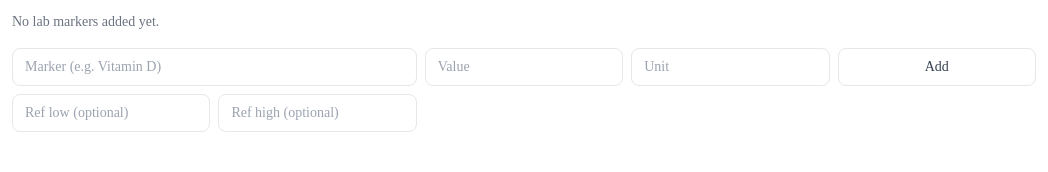
Test: LabMarkerTable — a cleared range is shown cleared, with the notice (U22, N-115) › blanks the auto-filled range and shows the notice on a unit edit, and restores both on an edit back
This screenshot has width=1048, height=172.
Type "Vitamin D" into the field with placeholder "Marker (e.g. Vitamin D)" at (214, 67), box [12,48,417,86]
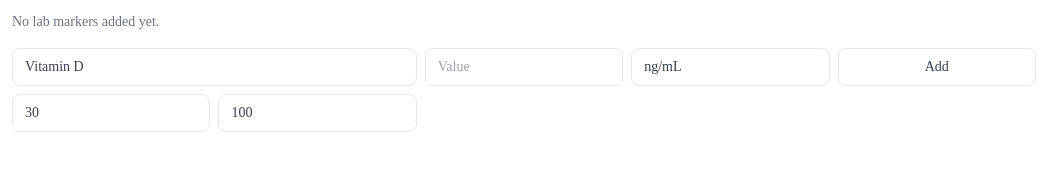
Replace the text in the 2nd field with placeholder "Unit" with "nmol/L" at (730, 67), box [631,48,830,86]
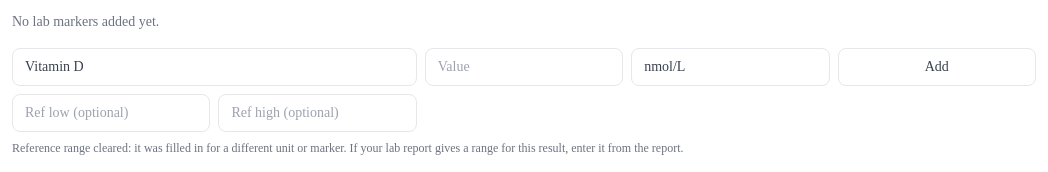
Check: the field with placeholder "Ref low (optional)" is empty, box [12,94,210,132]
Check: the field with placeholder "Ref high (optional)" is empty, box [218,94,417,132]
Check: the text "Reference range cleared: it was filled in for a different unit or marker. If your lab report gives a range for this resu" is shown, box [12,141,684,155]
Replace the text in the 2nd field with placeholder "Unit" with "ng/mL" at (730, 67), box [631,48,830,86]
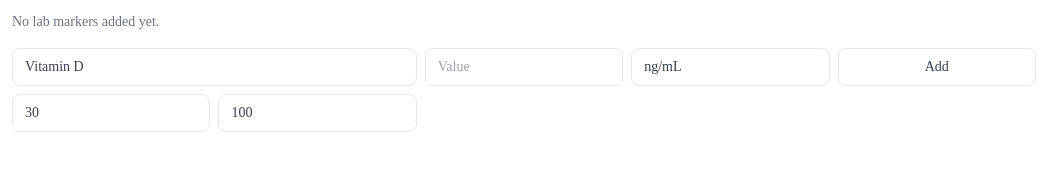
Check: the 3rd field with placeholder "Ref low (optional)" holds "30", box [12,94,210,132]
Check: the text "Reference range cleared: it was filled in for a different unit or marker. If your lab report gives a range for this resu" is gone
